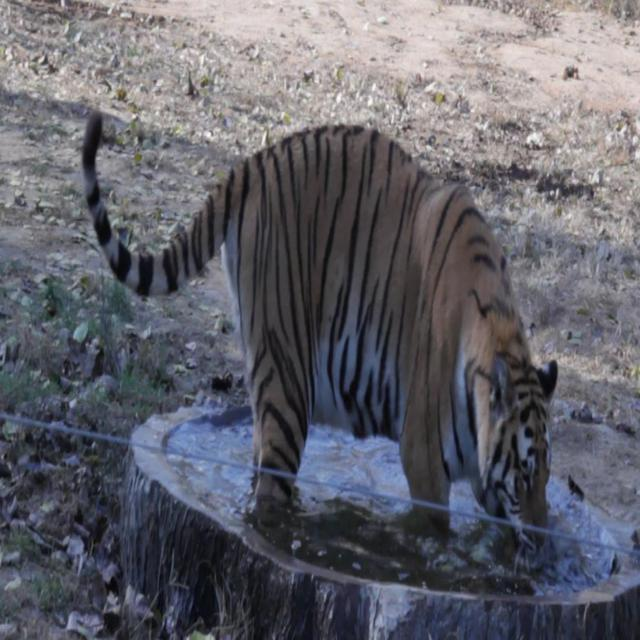tiger: (79, 109, 559, 569)
